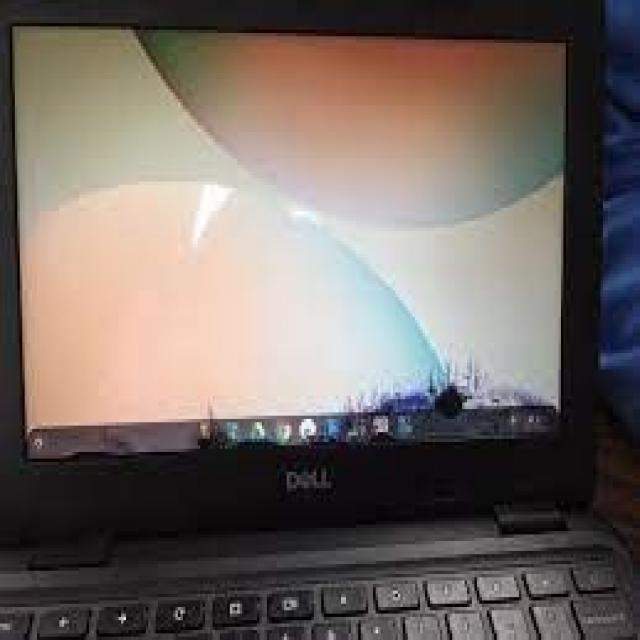Screen cracks: (79, 343, 559, 462)
